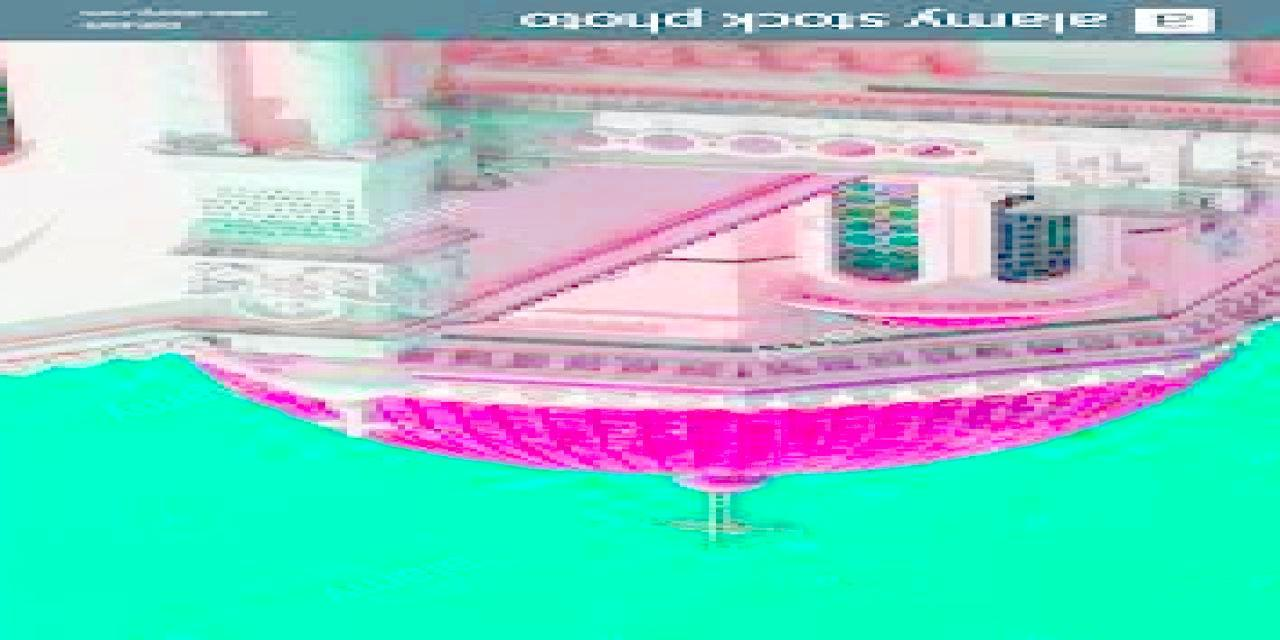Agios Minas: (1, 42, 1280, 547)
